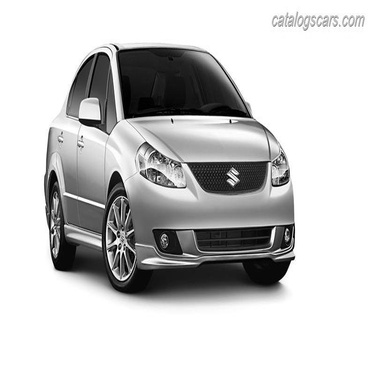car: (34, 34, 299, 298)
